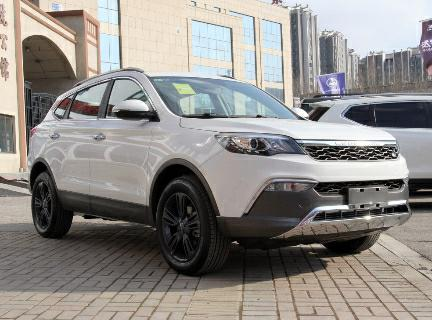猎豹汽车-猎豹CS10: (23, 60, 412, 276)
